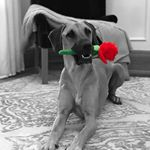puppy: (48, 18, 127, 150)
